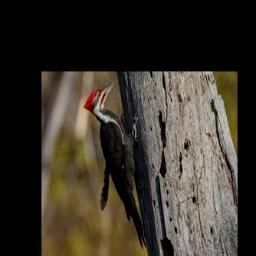Woodpecker: (84, 79, 147, 249)
